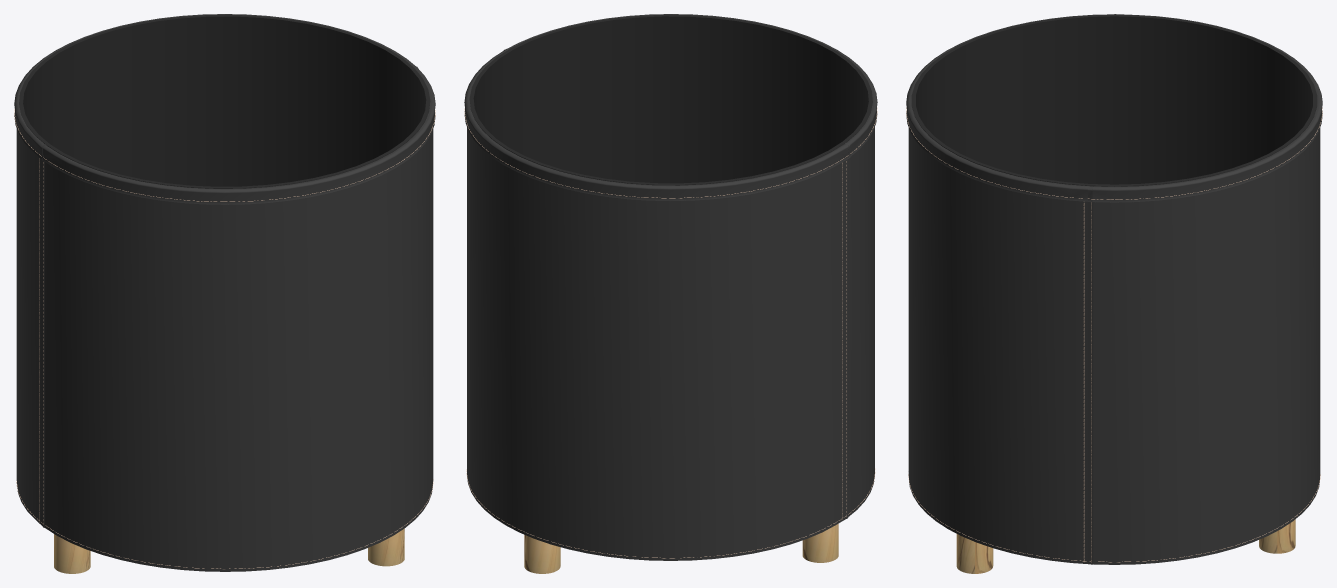
The model's file is kamin.glb.
3 views of the same model, side by side, from view 1: azimuth 30°, elevation 25°; view 2: azimuth 150°, elevation 25°; view 3: azimuth 270°, elevation 25° (orthographic). The views are drawn at different scales.
Visible parts, largest first — view 1: Tube_2, Tube 1, Cloner, Cylinder 1, Cylinder 2; view 2: Tube_2, Tube 1, Cloner, Cylinder 3, Cylinder 1; view 3: Tube_2, Tube 1, Cloner, Cylinder 2, Cylinder 3.
Part boxes in pixels (x1,y1,x2,y2): Tube_2: (14,14,435,571); Tube 1: (19,14,430,188); Cloner: (14,109,435,569); Cylinder 1: (54,534,90,573); Cylinder 2: (368,528,404,566); Tube_2: (464,14,877,560); Tube 1: (469,14,872,185); Cloner: (464,106,877,558); Cylinder 3: (524,535,560,573); Cylinder 1: (802,523,838,562); Tube_2: (906,14,1322,564); Tube 1: (911,14,1317,186); Cloner: (906,108,1322,562); Cylinder 2: (956,534,993,573); Cylinder 3: (1259,519,1295,553).
Bounding box in the file's own units: 0.4 × 0.447 × 0.4.
6 materials, 1 textured.
